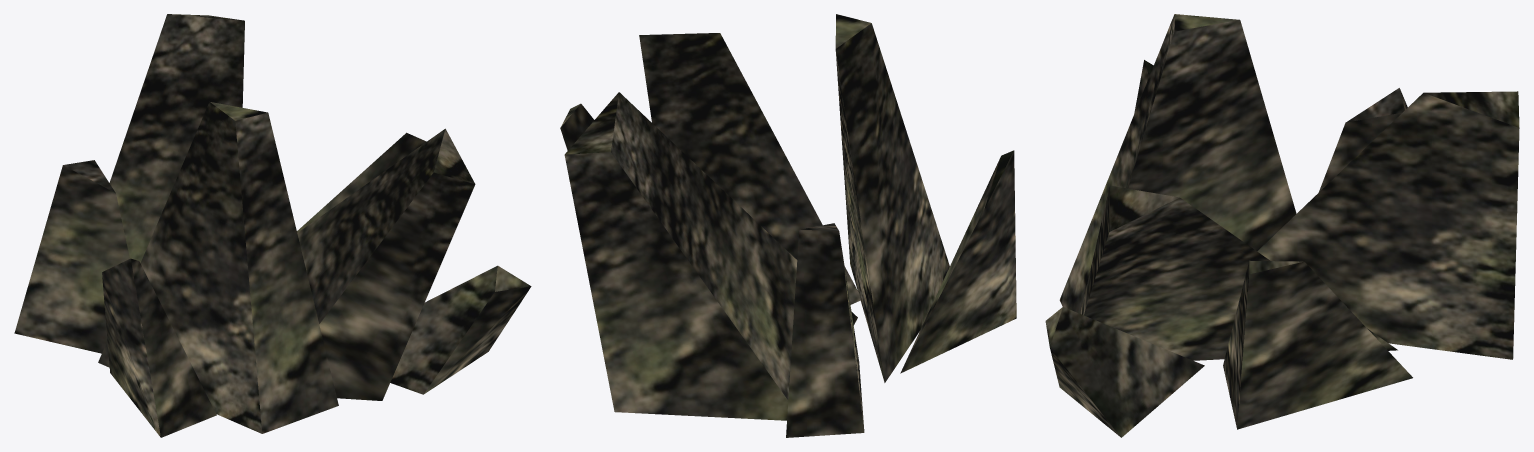
Rendered from rock_tformation3_hdtex.glb.
3 views of the same model, side by side, from view 1: azimuth 30°, elevation 25°; view 2: azimuth 150°, elevation 25°; view 3: azimuth 270°, elevation 25° (orthographic). The views are drawn at different scales.
Parts seen in each view (by area): view 1: Rock_TFormation3; view 2: Rock_TFormation3; view 3: Rock_TFormation3.
Boxes of the visible parts, box(x1,y1,x2,y2) form: Rock_TFormation3: box(14, 14, 531, 437); Rock_TFormation3: box(560, 14, 1016, 437); Rock_TFormation3: box(1045, 14, 1519, 437).
Bounding box in the file's own units: 25 × 18.88 × 25.36.
1 material, 1 textured.
